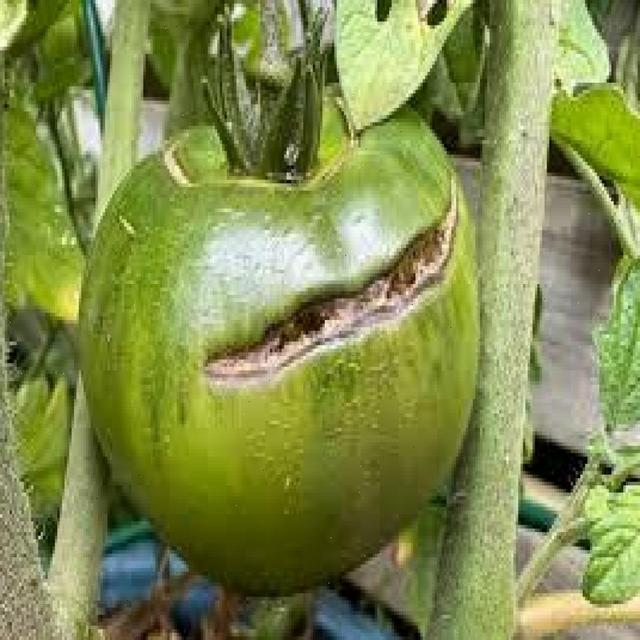Cracking Fruit: (151, 65, 219, 198)
